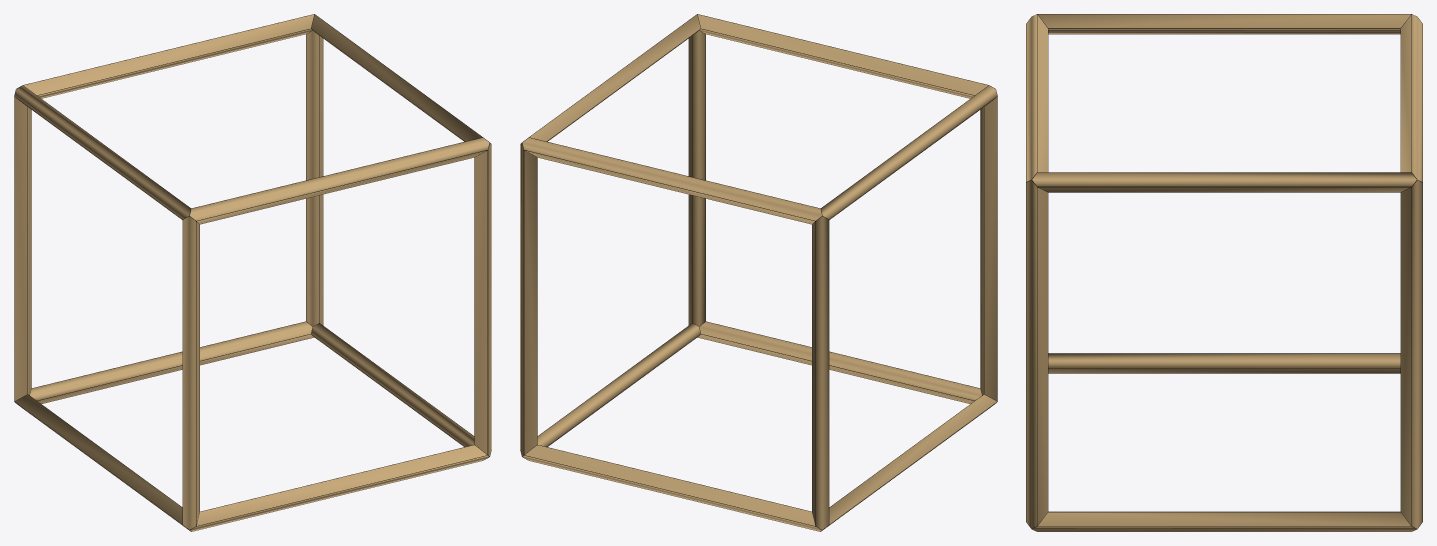
The picture shows the model from 3 angles, left to right: view 1: azimuth 30°, elevation 25°; view 2: azimuth 150°, elevation 25°; view 3: azimuth 270°, elevation 25°; orthographic projection. The views are drawn at different scales.
Parts seen in each view (by area): view 1: arete-Z1, arete-X2, arete-Z2, arete-X0, arete-Z0, arete-X3, arete-X1, arete-Z3, arete-Y2, arete-Y0, arete-Y3, arete-Y1 (+8 smaller); view 2: arete-Z3, arete-X3, arete-Z0, arete-X1, arete-Z2, arete-X2, arete-X0, arete-Z1, arete-Y2, arete-Y0, arete-Y3, arete-Y1 (+8 smaller); view 3: arete-Y3, arete-Z1, arete-Z3, arete-Y1, arete-Y2, arete-Y0, arete-X2, arete-X3, arete-wire-Y1, arete-wire-Y3, arete-wire-Y2, arete-wire-Y0 (+4 smaller).
Boxes of the visible parts, x1,y1,x2,y2 form: arete-Z1: (474,143,491,456); arete-X2: (190,137,489,224); arete-Z2: (14,97,31,400); arete-X0: (190,445,488,531); arete-Z0: (183,216,199,529); arete-X3: (23,14,314,98); arete-X1: (30,322,313,403); arete-Z3: (306,30,322,326); arete-Y2: (14,85,190,219); arete-Y0: (15,394,185,527); arete-Y3: (311,15,482,141); arete-Y1: (311,323,474,446); arete-Z3: (520,143,537,456); arete-X3: (522,137,821,224); arete-Z0: (980,97,997,400); arete-X1: (523,445,821,531); arete-Z2: (812,216,828,529); arete-X2: (697,14,988,98); arete-X0: (698,322,981,403); arete-Z1: (689,30,705,326); arete-Y2: (821,85,997,219); arete-Y0: (826,394,996,527); arete-Y3: (529,15,700,141); arete-Y1: (537,323,700,446); arete-Y3: (1032,172,1416,192); arete-Z1: (1026,180,1047,528); arete-Z3: (1401,180,1422,528); arete-Y1: (1032,512,1416,531); arete-Y2: (1038,14,1410,33); arete-Y0: (1048,354,1400,373); arete-X2: (1026,14,1047,181); arete-X3: (1401,14,1422,181); arete-wire-Y1: (1032,511,1416,531); arete-wire-Y3: (1037,172,1416,192); arete-wire-Y2: (1037,14,1416,34); arete-wire-Y0: (1048,353,1400,373).
Size of the model in its own units: 1.03 by 1.03 by 1.03.
